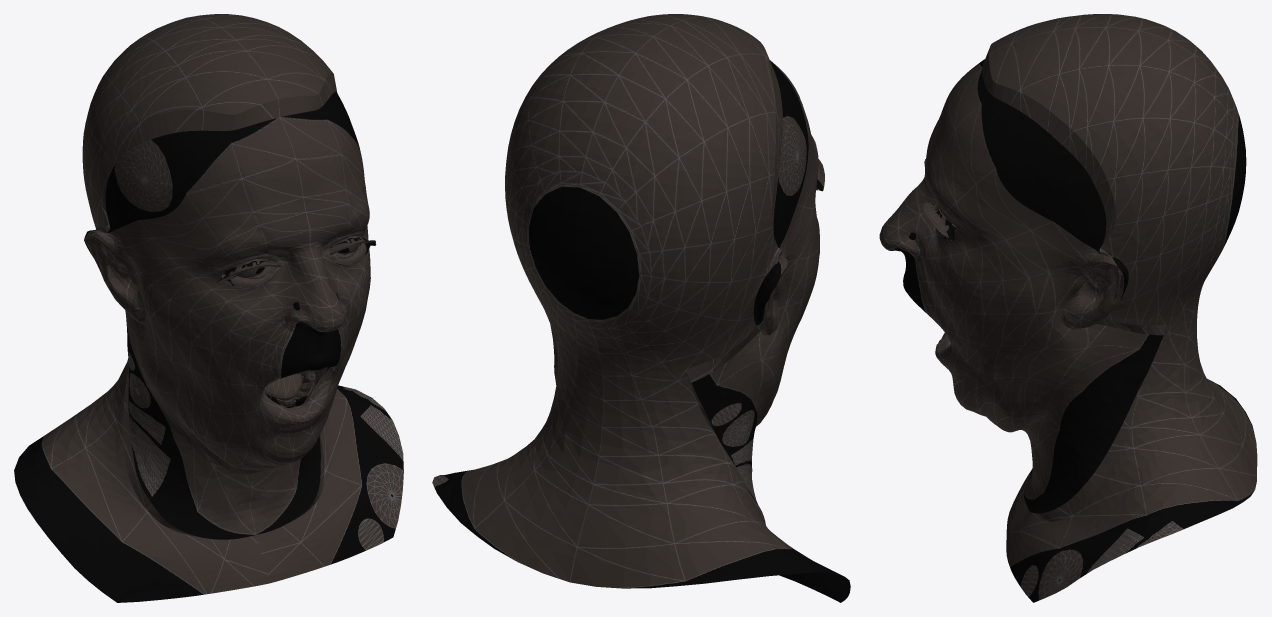
File: ict_mediapipe_M_IrisLeft_textured.obj
The picture shows the model from 3 angles, left to right: view 1: azimuth 30°, elevation 25°; view 2: azimuth 150°, elevation 25°; view 3: azimuth 270°, elevation 25°; orthographic projection. The views are drawn at different scales.
Bounding box in the file's own units: 1.02 × 1.38 × 0.9253.
Materials: 1 (1 with a texture image).
